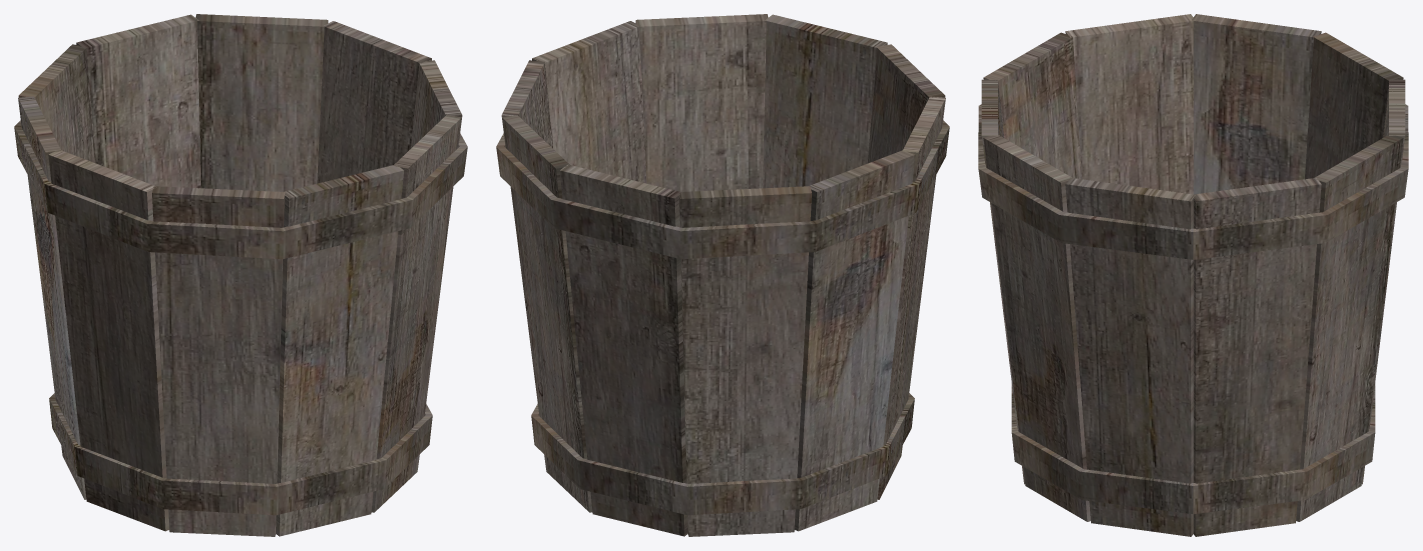
The model's file is Bucket_Crate.glb.
3 renders of one model, left to right at view 1: azimuth 30°, elevation 25°; view 2: azimuth 150°, elevation 25°; view 3: azimuth 270°, elevation 25°, orthographic.
Parts seen in each view (by area): view 1: Crate-05; view 2: Crate-05; view 3: Crate-05.
Boxes of the visible parts, box(x1,y1,x2,y2) form: Crate-05: box(14, 14, 467, 536); Crate-05: box(496, 14, 949, 536); Crate-05: box(978, 14, 1408, 536).
Bounding box in the file's own units: 0.505 × 0.44 × 0.4842.
1 material, 1 textured.
